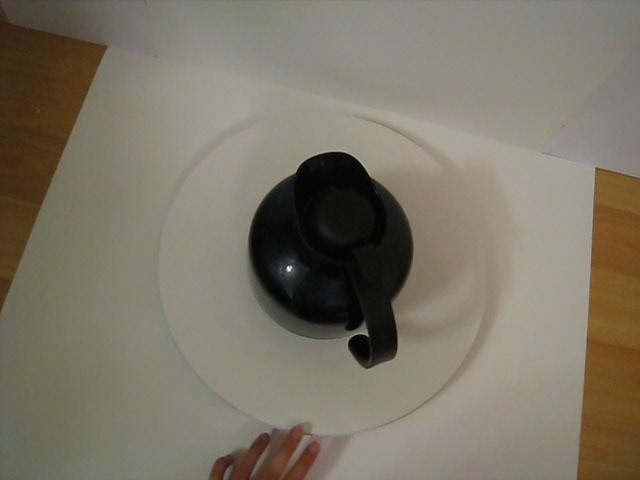pitcher: (237, 135, 443, 402)
